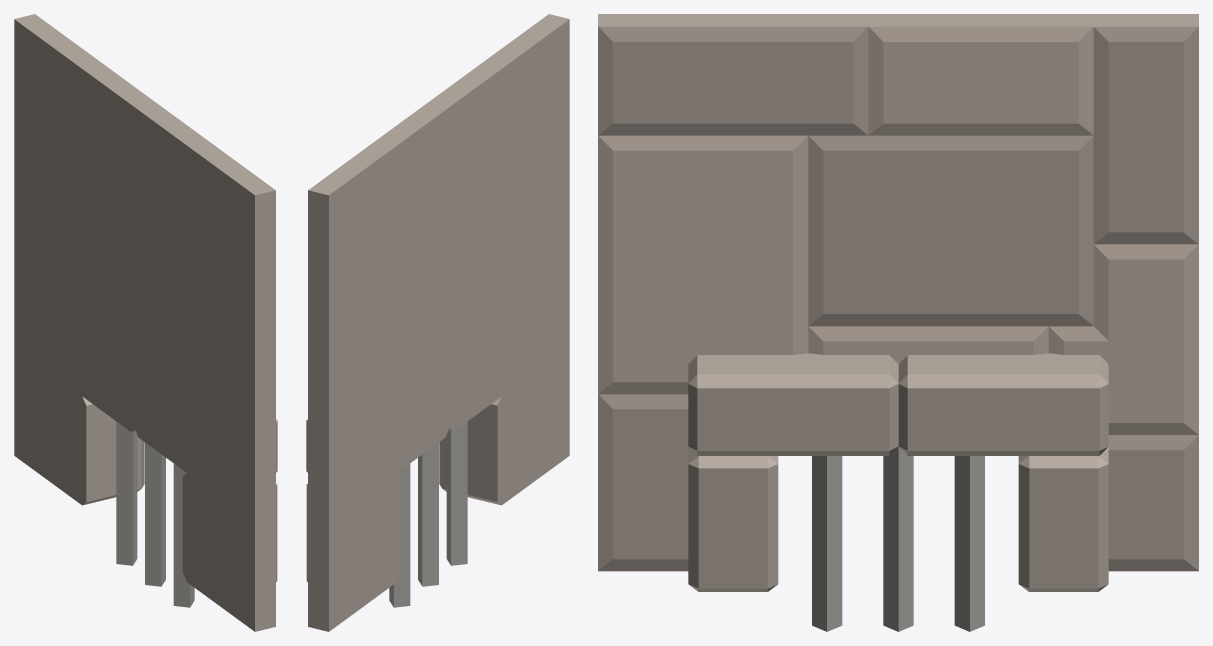
The model's file is trampaAlcantarillas1.glb.
The picture shows the model from 3 angles, left to right: view 1: azimuth 30°, elevation 25°; view 2: azimuth 150°, elevation 25°; view 3: azimuth 270°, elevation 25°; orthographic projection. The views are drawn at different scales.
Visible parts, largest first — view 1: object8, object7, object5, object2, object1, object3, object6, object4; view 2: object8, object1, object5, object2, object7, object4, object6, object3; view 3: object8, object2, object5, object1, object7, object6, object3, object4.
Boxes of the visible parts, left/top/right/bottom form: object8: left=14, top=14, right=275, bottom=631; object7: left=50, top=376, right=144, bottom=505; object5: left=50, top=310, right=135, bottom=431; object2: left=134, top=375, right=277, bottom=493; object1: left=182, top=473, right=277, bottom=601; object3: left=116, top=421, right=137, bottom=565; object6: left=145, top=442, right=165, bottom=586; object4: left=173, top=463, right=194, bottom=607; object8: left=308, top=14, right=569, bottom=631; object1: left=439, top=377, right=533, bottom=505; object5: left=306, top=372, right=449, bottom=493; object2: left=448, top=310, right=533, bottom=431; object7: left=306, top=473, right=401, bottom=601; object4: left=446, top=421, right=467, bottom=565; object6: left=418, top=442, right=438, bottom=586; object3: left=389, top=463, right=410, bottom=607; object8: left=598, top=14, right=1198, bottom=571; object2: left=688, top=353, right=898, bottom=455; object5: left=898, top=353, right=1108, bottom=455; object1: left=688, top=447, right=778, bottom=591; object7: left=1018, top=447, right=1108, bottom=591; object6: left=883, top=446, right=913, bottom=631; object3: left=954, top=456, right=984, bottom=631; object4: left=812, top=456, right=842, bottom=631.
Bounding box in the file's own units: 0.15 × 1.1 × 1.
